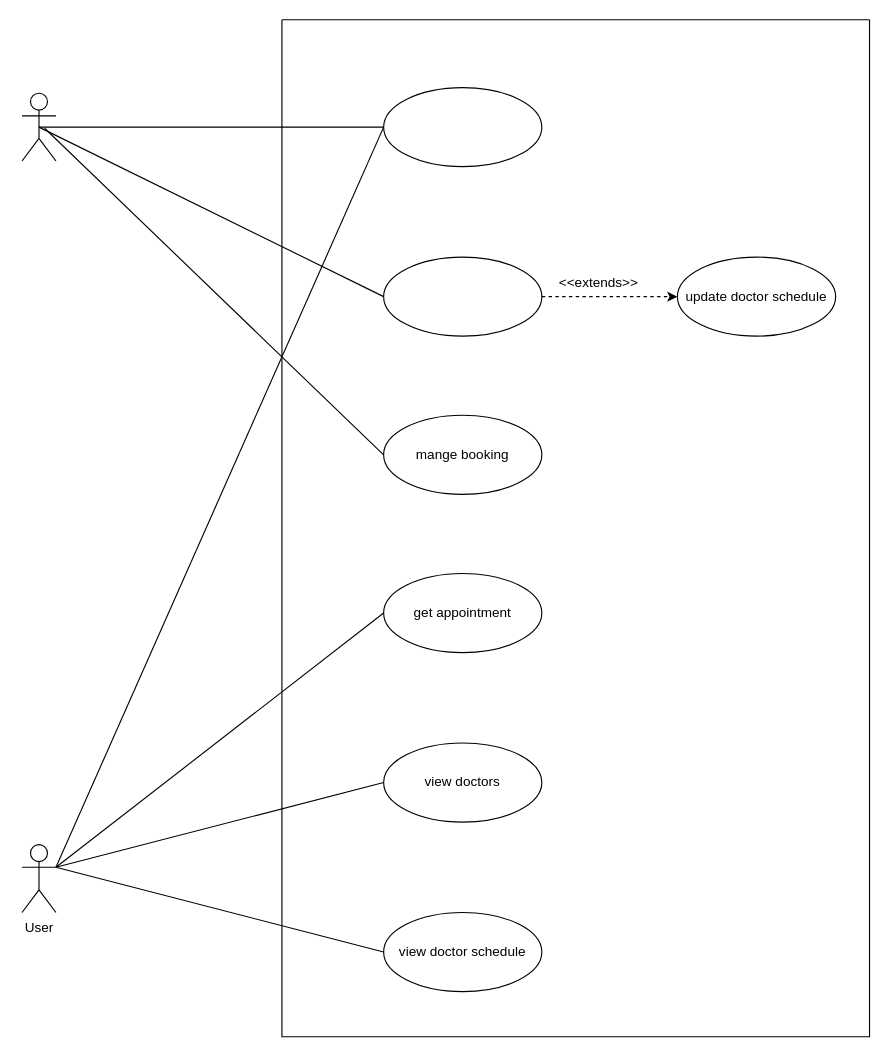
Some shapes in this 889 by 1057 pixel diagram are drawn without their labels. Here are the shapes that lost their labels. From the top down, the box of each, then its label:
(21, 92, 56, 161): Admin
(383, 86, 542, 167): Login
(383, 256, 542, 336): mange doctor information
